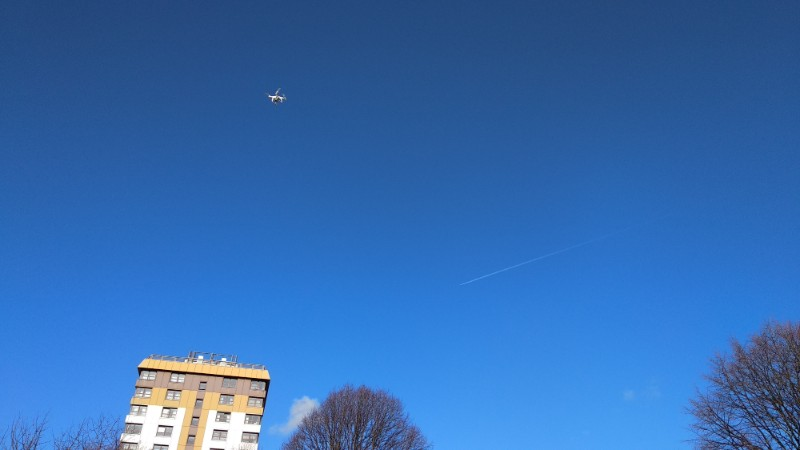drone: (266, 86, 287, 106)
